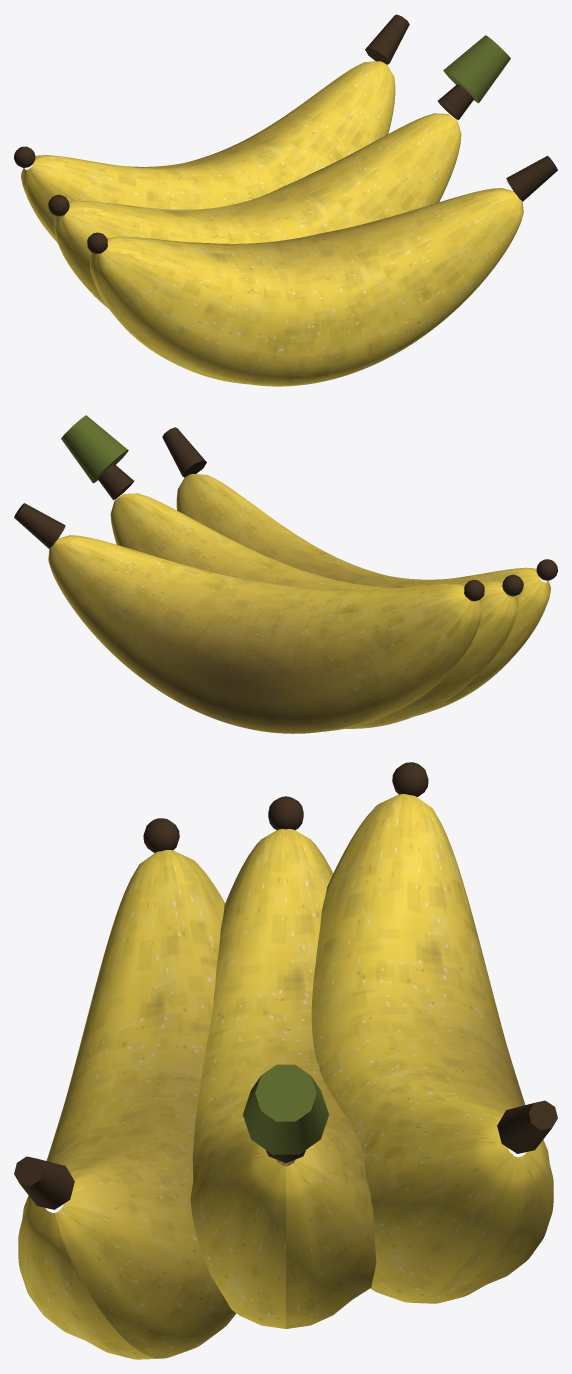
The model's file is banana.glb.
3 renders of one model, top to bottom at view 1: azimuth 30°, elevation 25°; view 2: azimuth 150°, elevation 25°; view 3: azimuth 270°, elevation 25°, orthographic. The views are drawn at different scales.
Size of the model in its own units: 0.1684 by 0.0919 by 0.1015.
5 materials, 1 textured.
